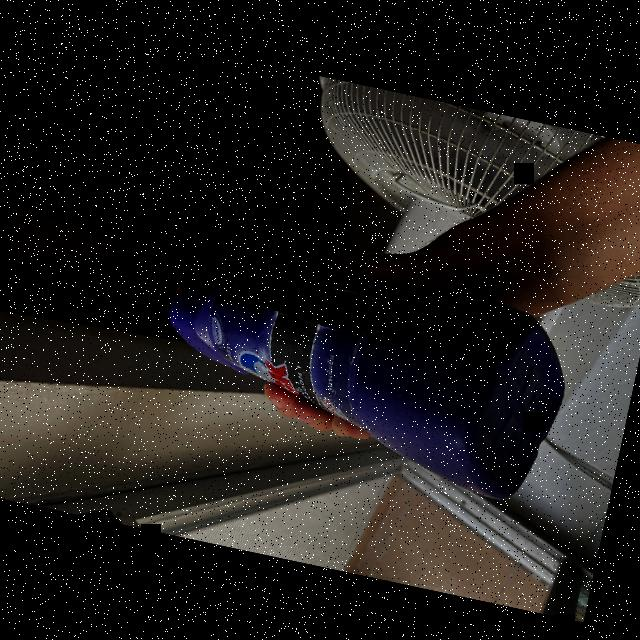toilet_cleaner: (138, 228, 585, 511)
